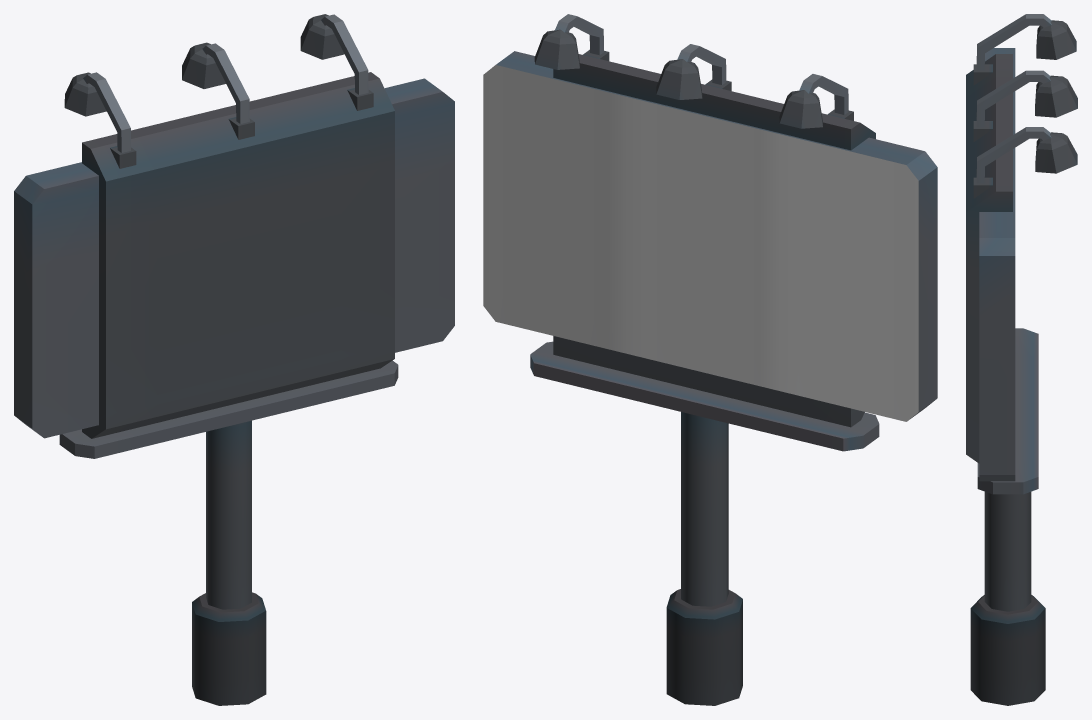
File: billboard.fbx
The picture shows the model from 3 angles, left to right: view 1: azimuth 30°, elevation 25°; view 2: azimuth 150°, elevation 25°; view 3: azimuth 270°, elevation 25°; orthographic projection. The views are drawn at different scales.
Visible parts, largest first — view 1: billboard; view 2: billboard; view 3: billboard.
Part boxes in pixels (x1=…): billboard: x1=14, y1=14, x2=454, y2=705; billboard: x1=483, y1=14, x2=937, y2=705; billboard: x1=966, y1=14, x2=1077, y2=705.
Bounding box in the file's own units: 3245 × 4643 × 763.
